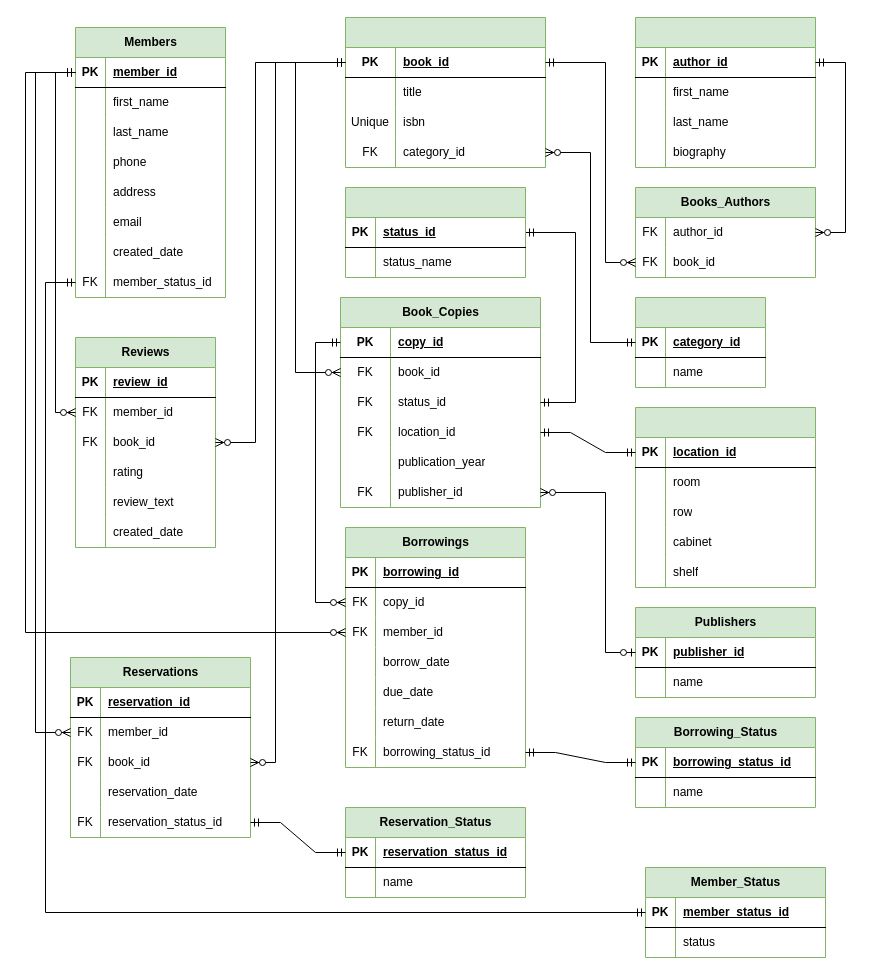
This 872x975 diagram has some shape labels left out. The box of each missing label's shape, as (x1, y1, x2, y2) in pixels:
Authors: (634, 16, 816, 168)
Book_Location: (634, 406, 816, 588)
Book_Status: (344, 186, 526, 278)
Books: (344, 16, 546, 168)
Categories: (634, 296, 766, 388)
